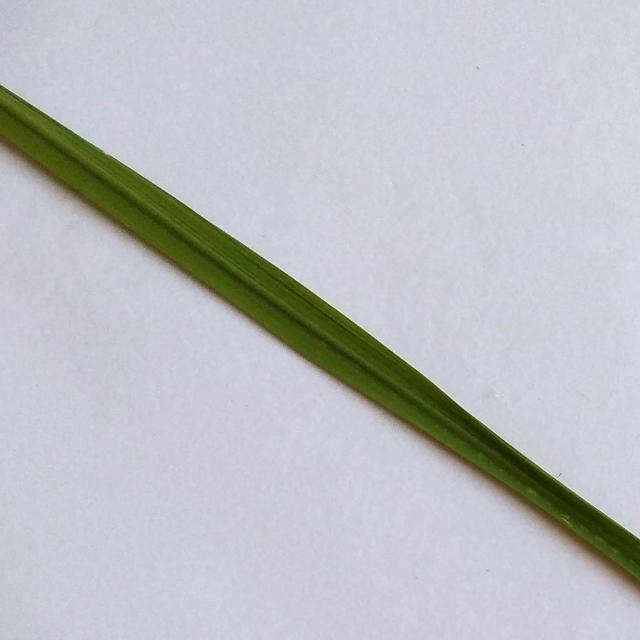Rice_Healthy: (0, 86, 640, 584)
